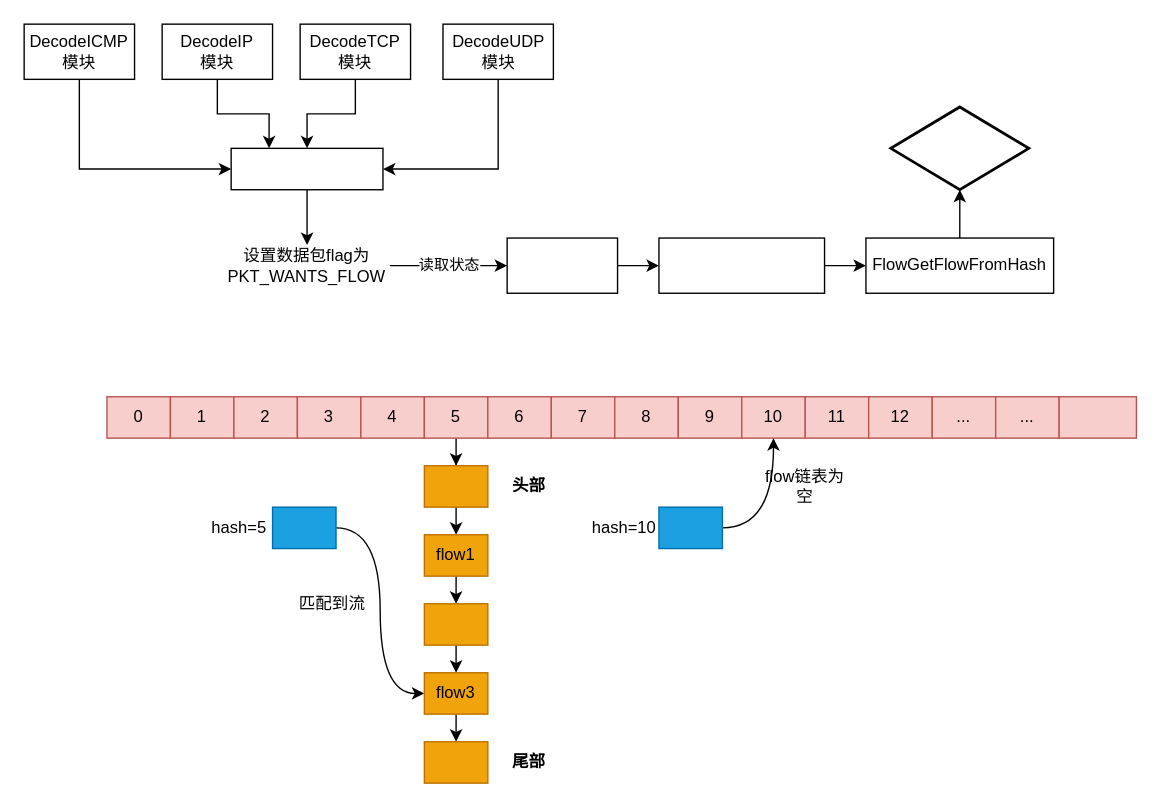
The diagram is 1161 pixels wide and 807 high, and some of its shapes have lost their labels. The centre of each missing label's shape, as x and y in pixels:
"flow head" belongs at point (455, 485).
"flow2" belongs at point (455, 623).
"flow_hash的bucket为空" belongs at point (959, 147).
"FlowHandlePacket" belongs at point (741, 265).
"FlowSetupPacket" belongs at point (306, 168).
"FlowWorker 流处理模块" belongs at point (562, 265).
"hash_size" belongs at point (1097, 416).
"NULL" belongs at point (455, 761).
"packet1" belongs at point (303, 527).
"packet2" belongs at point (690, 527).
